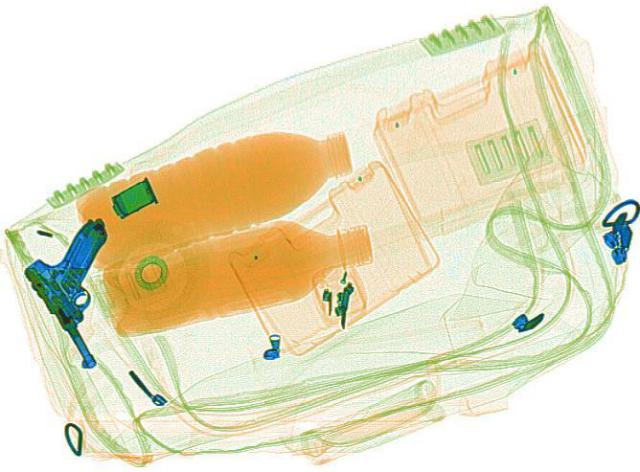Gun: (8, 214, 142, 374)
